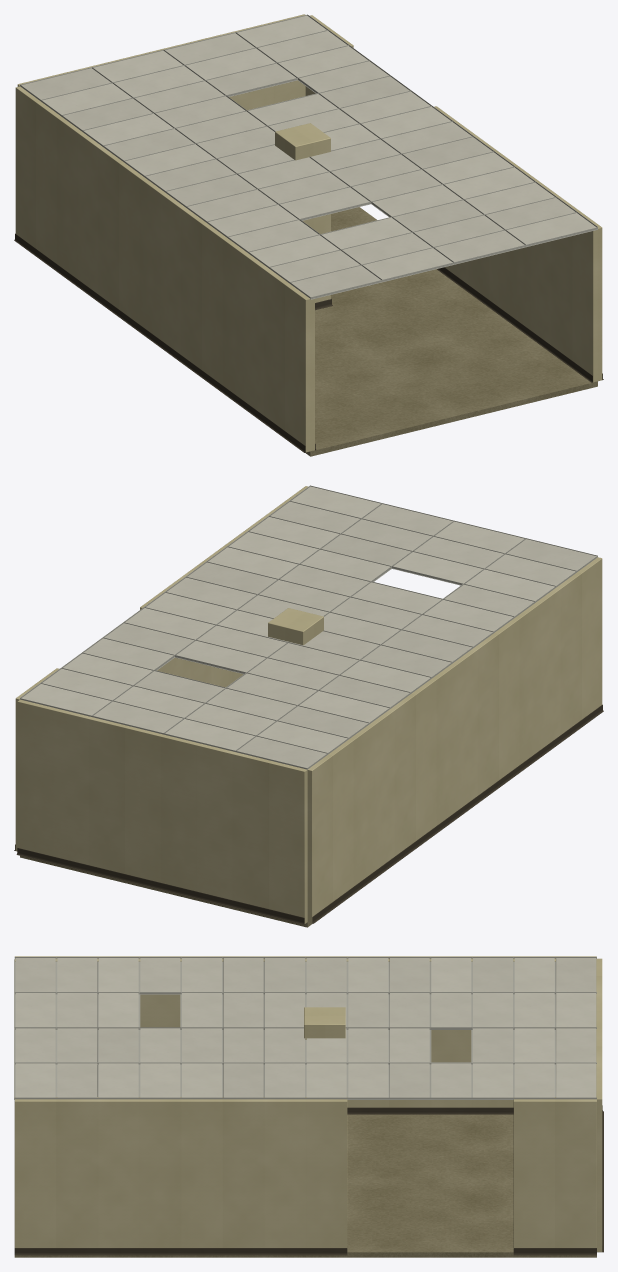
The model's file is short_blackout.gltf.
The picture shows the model from 3 angles, top to bottom: view 1: azimuth 30°, elevation 25°; view 2: azimuth 150°, elevation 25°; view 3: azimuth 270°, elevation 25°; orthographic projection.
Visible parts, largest first — view 1: short_blackout; view 2: short_blackout; view 3: short_blackout.
Boxes of the visible parts, left/top/right/bottom form: short_blackout: left=14, top=14, right=603, bottom=456; short_blackout: left=14, top=485, right=603, bottom=927; short_blackout: left=14, top=956, right=603, bottom=1257.
Size of the model in its own units: 5.09 by 2.8 by 8.66.
Materials: 5 (5 with a texture image).
